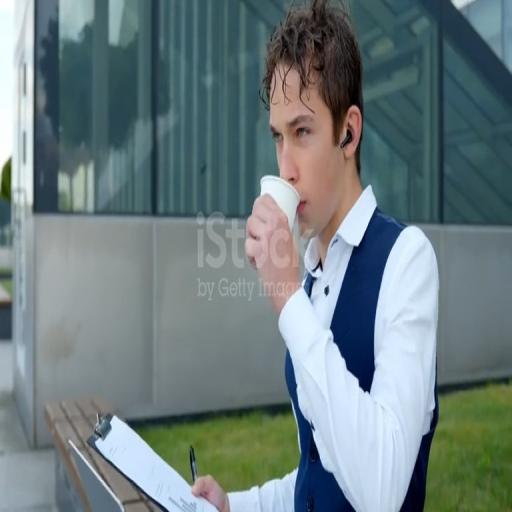earphone: (340, 121, 354, 157)
